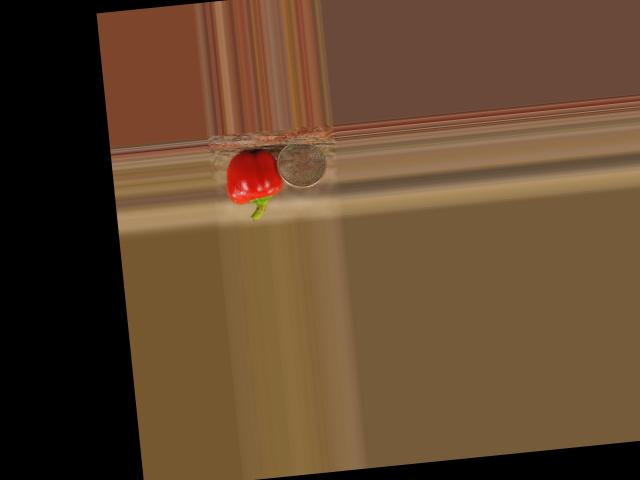bell_pepper: (222, 145, 284, 222)
